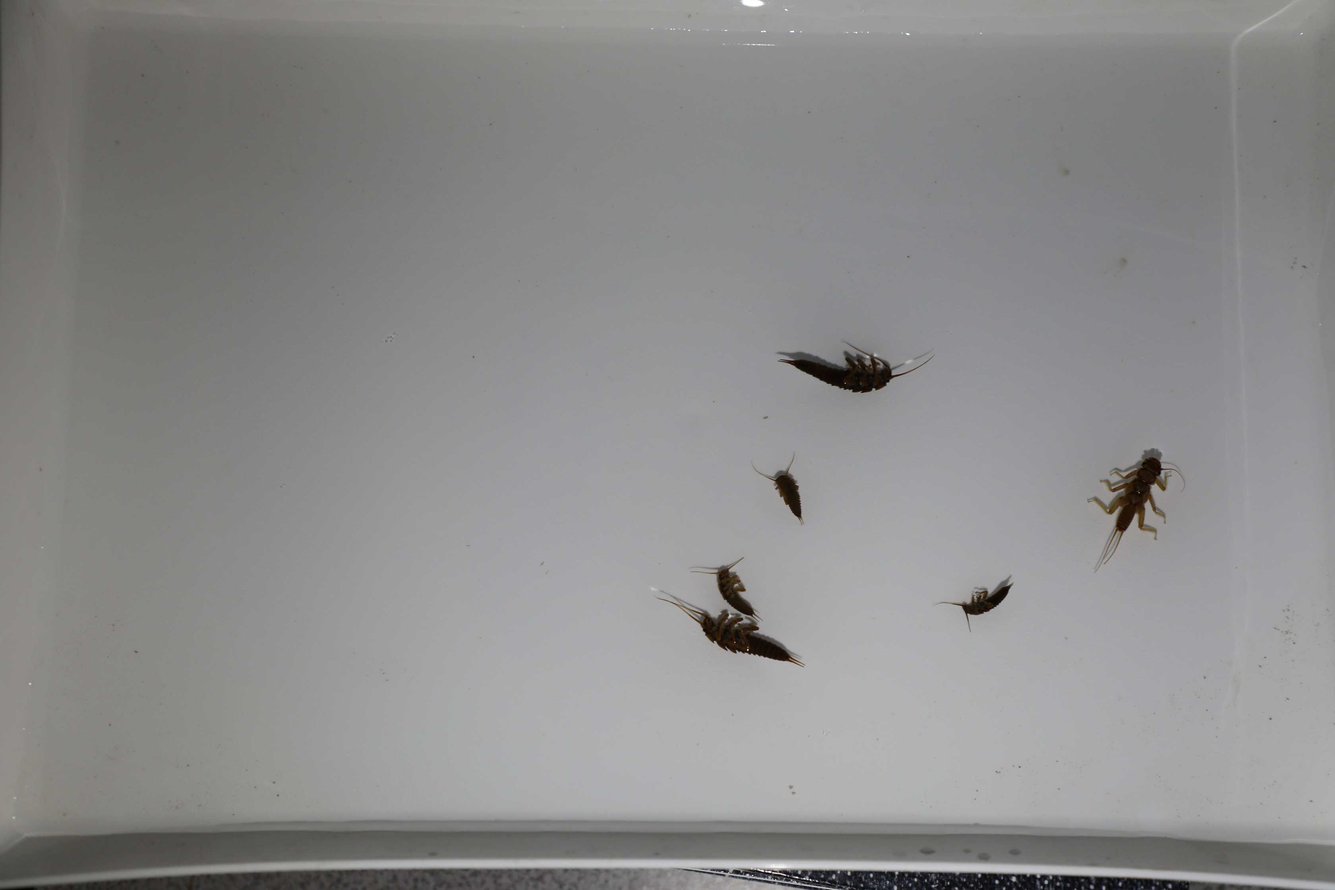Stonefly: (1083, 441, 1176, 581), (654, 589, 802, 670), (769, 324, 935, 395), (933, 573, 1014, 632), (746, 452, 806, 525), (689, 558, 750, 614)
